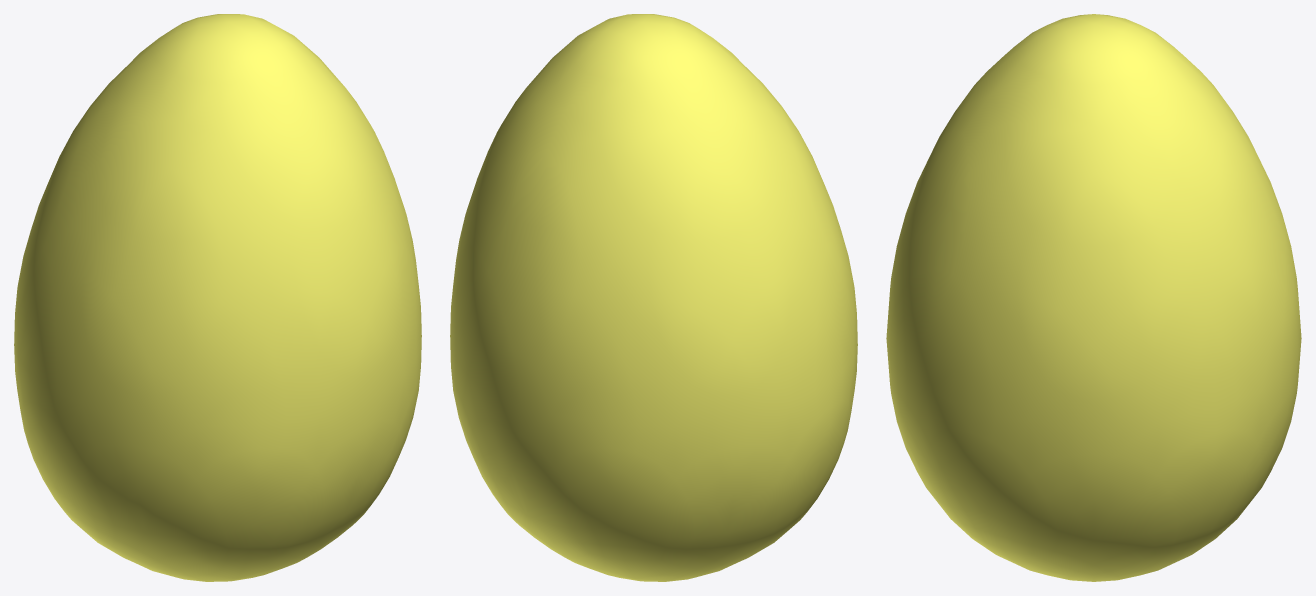
Rendered from Egg.fbx.
3 views of the same model, side by side, from view 1: azimuth 30°, elevation 25°; view 2: azimuth 150°, elevation 25°; view 3: azimuth 270°, elevation 25° (orthographic).
Visible parts, largest first — view 1: Icosphere; view 2: Icosphere; view 3: Icosphere.
Part boxes in pixels (x1=…): Icosphere: x1=14, y1=14, x2=421, y2=581; Icosphere: x1=450, y1=14, x2=857, y2=581; Icosphere: x1=886, y1=14, x2=1301, y2=581.
Size of the model in its own units: 185 by 269 by 185.
